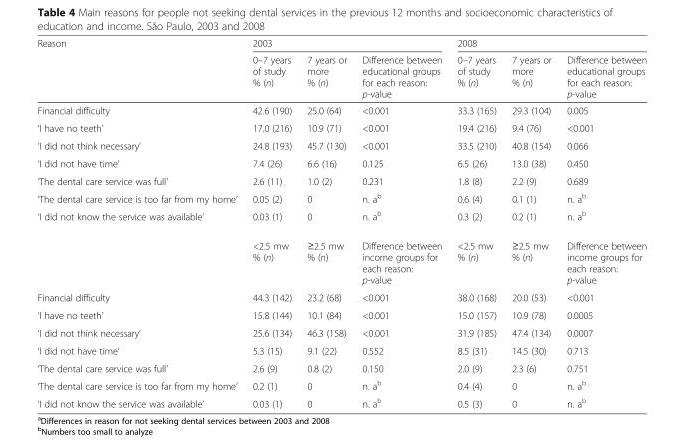table: (36, 37, 646, 409)
table column: (36, 37, 244, 409), (353, 37, 449, 409), (558, 37, 646, 409), (298, 37, 353, 409), (503, 37, 558, 409), (244, 37, 298, 409), (449, 37, 503, 409)
table column header: (36, 37, 646, 101)
table row: (36, 230, 646, 288), (36, 50, 646, 101), (36, 206, 646, 230), (36, 118, 646, 136), (36, 136, 646, 154), (36, 154, 646, 172), (36, 188, 646, 206), (36, 288, 646, 306), (36, 323, 646, 341), (36, 341, 646, 359), (36, 101, 646, 118), (36, 306, 646, 323), (36, 359, 646, 376), (36, 376, 646, 393), (36, 172, 646, 188), (36, 393, 646, 409), (36, 37, 646, 50)
table spanning cell: (36, 206, 244, 288), (36, 37, 244, 101), (244, 37, 449, 50), (449, 37, 646, 50)
